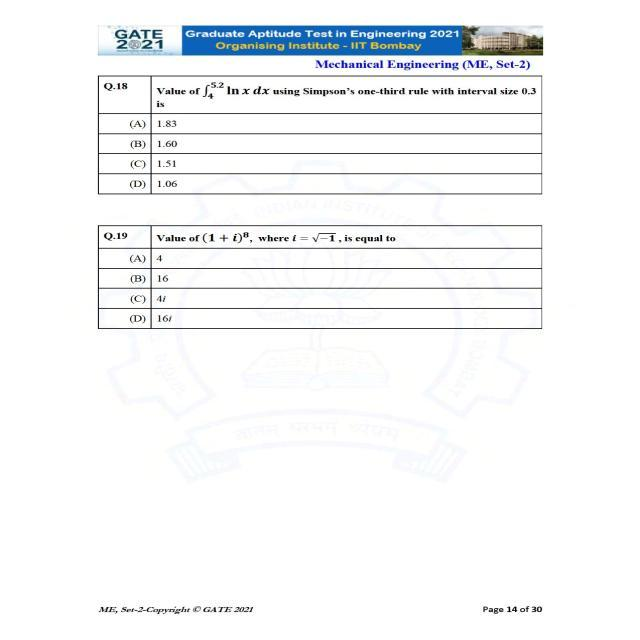Answer_Block: (61, 116, 590, 209), (61, 252, 590, 345)
Question_Answer_Block: (61, 74, 590, 210), (61, 222, 590, 346)
Question_Block: (61, 74, 590, 115), (61, 222, 590, 250)
Question_Paper_Area: (59, 69, 588, 382)
